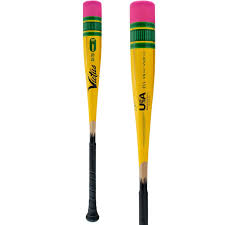baseball bat: (126, 1, 156, 225), (80, 1, 104, 224)
